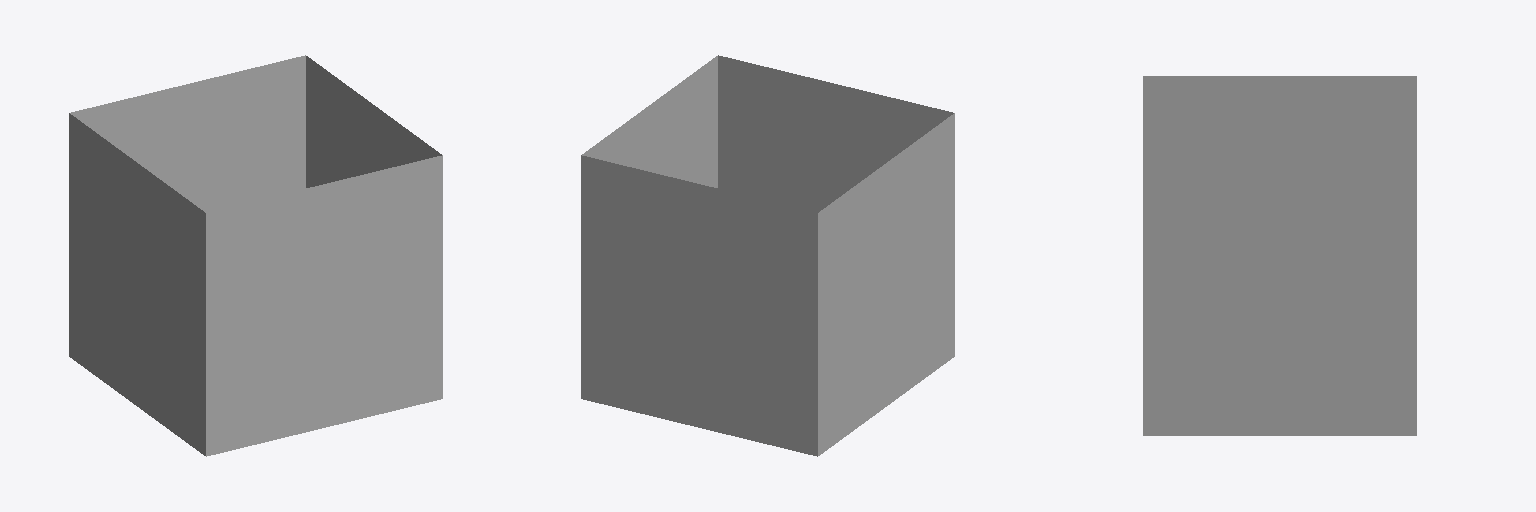
Rendered from market place.obj.
3 renders of one model, left to right at view 1: azimuth 30°, elevation 25°; view 2: azimuth 150°, elevation 25°; view 3: azimuth 270°, elevation 25°, orthographic.
Size of the model in its own units: 12.6 by 12.4 by 12.6.